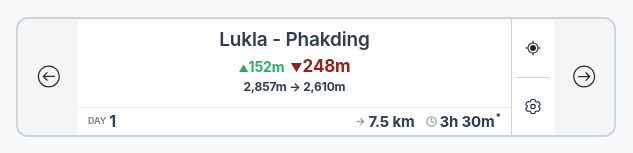
Test case: Dashboard Toolbar Behavior › should show branding strip with attribution in toolbar
Click the picture with alt text "Tools". click: [533, 106]
box: [524,98,542,115]
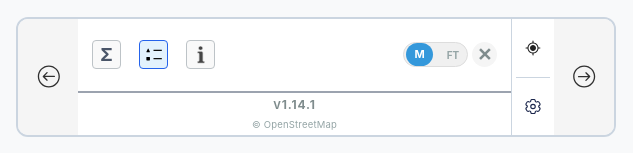
Now the element showing "Σ M M FT ✕ v1.14.1 © OpenStreetMap" is shown
